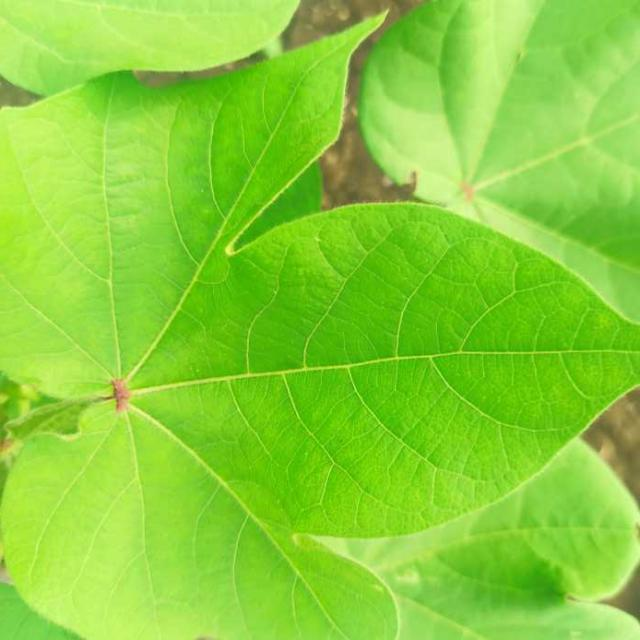Healthy Leaf: (7, 5, 640, 616)
